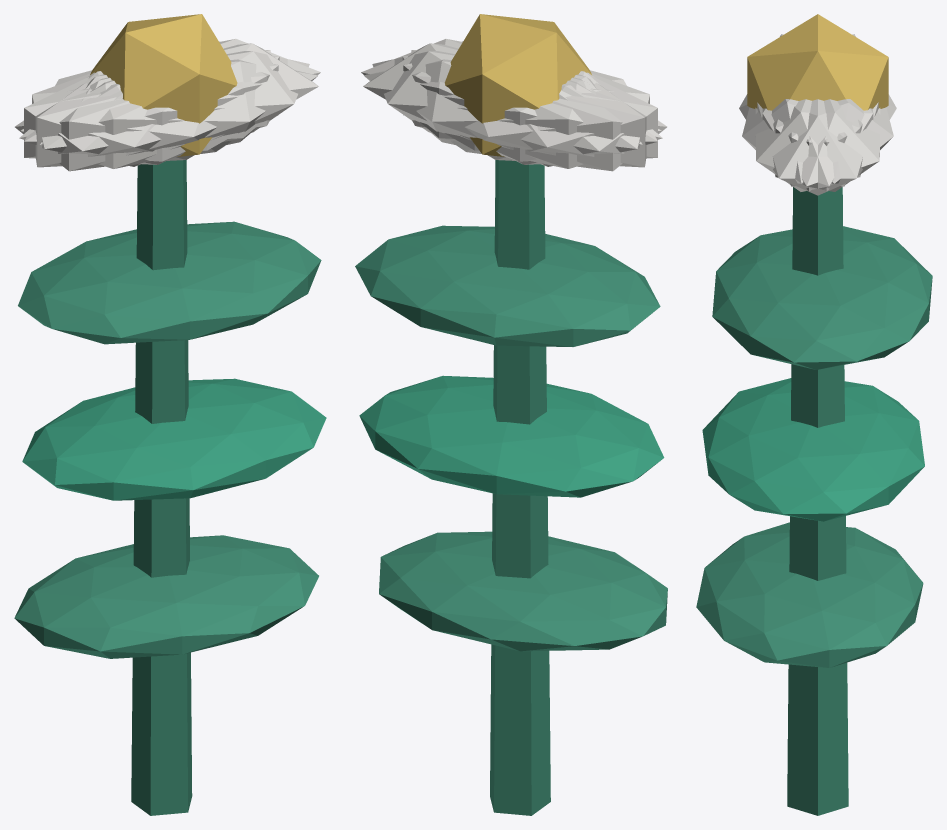
File: ruellia-blechum.glb
3 renders of one model, left to right at view 1: azimuth 30°, elevation 25°; view 2: azimuth 150°, elevation 25°; view 3: azimuth 270°, elevation 25°, orthographic.
Parts seen in each view (by area): view 1: leaf0, leaf1, leaf2, stem, center, petal1, petal6, petal2, petal5, petal7, petal0, petal4 (+2 smaller); view 2: leaf2, leaf1, leaf0, stem, center, petal8, petal3, petal7, petal4, petal2, petal0, petal5 (+2 smaller); view 3: leaf2, leaf1, leaf0, stem, center, petal0, petal4, petal5, petal1, petal8.
Boxes of the visible parts, x1=… form: leaf0: x1=14, y1=535, x2=318, y2=658; leaf1: x1=22, y1=378, x2=326, y2=500; leaf2: x1=18, y1=221, x2=321, y2=344; stem: x1=131, y1=160, x2=192, y2=815; center: x1=90, y1=14, x2=237, y2=156; petal1: x1=19, y1=59, x2=317, y2=168; petal6: x1=15, y1=72, x2=231, y2=171; petal2: x1=35, y1=50, x2=270, y2=167; petal5: x1=39, y1=51, x2=309, y2=161; petal7: x1=24, y1=56, x2=279, y2=164; petal0: x1=90, y1=43, x2=318, y2=150; petal4: x1=21, y1=39, x2=320, y2=141; leaf2: x1=355, y1=225, x2=660, y2=346; leaf1: x1=359, y1=375, x2=664, y2=497; leaf0: x1=379, y1=531, x2=667, y2=651; stem: x1=490, y1=160, x2=550, y2=815; center: x1=444, y1=14, x2=591, y2=156; petal8: x1=364, y1=59, x2=662, y2=168; petal3: x1=451, y1=72, x2=667, y2=171; petal7: x1=411, y1=50, x2=646, y2=167; petal4: x1=372, y1=51, x2=642, y2=161; petal2: x1=402, y1=56, x2=657, y2=164; petal0: x1=363, y1=43, x2=592, y2=150; petal5: x1=361, y1=39, x2=661, y2=141; leaf2: x1=712, y1=226, x2=932, y2=369; leaf1: x1=702, y1=378, x2=924, y2=521; leaf0: x1=696, y1=522, x2=923, y2=667; stem: x1=787, y1=187, x2=848, y2=815; center: x1=747, y1=14, x2=888, y2=110; petal0: x1=757, y1=99, x2=878, y2=195; petal4: x1=762, y1=99, x2=880, y2=191; petal5: x1=755, y1=99, x2=873, y2=191; petal1: x1=742, y1=99, x2=862, y2=183; petal8: x1=773, y1=99, x2=893, y2=183.
Bounding box in the file's own units: 0.1452 × 0.3679 × 0.1024.
